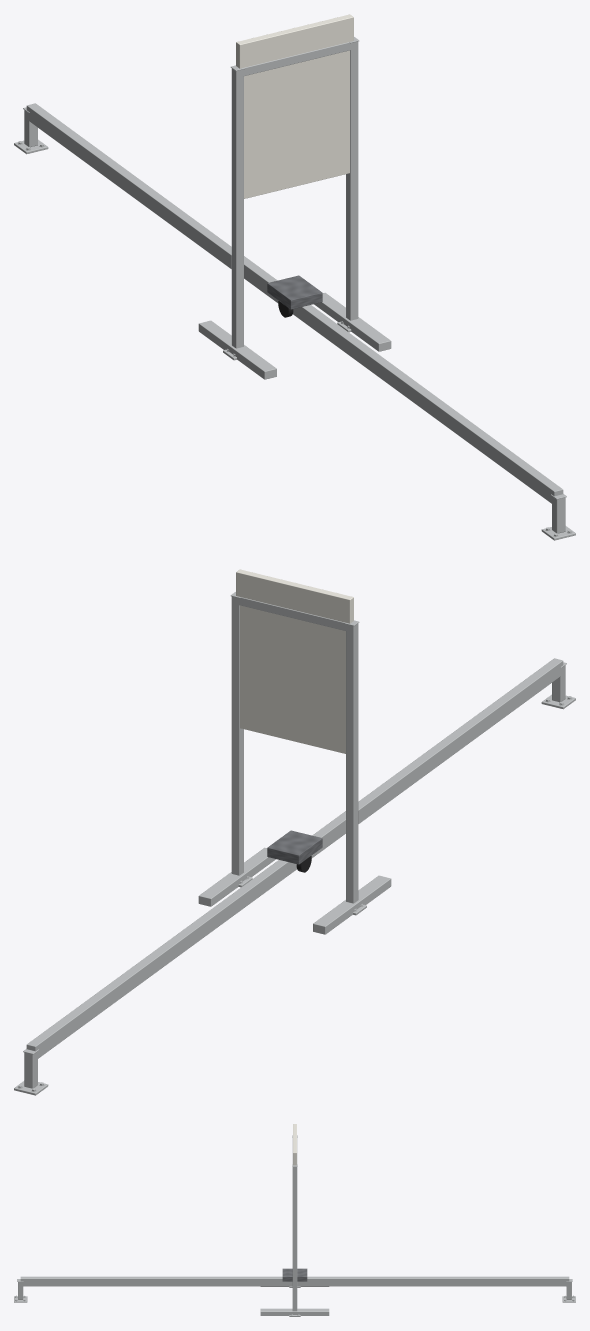
Rendered from fps-weapon-set-and-firing-range-moving-target-track-6b1982a4__19501.glb.
3 renders of one model, top to bottom at view 1: azimuth 30°, elevation 25°; view 2: azimuth 150°, elevation 25°; view 3: azimuth 270°, elevation 25°, orthographic. The views are drawn at different scales.
Parts seen in each view (by area): view 1: moving-target-track; view 2: moving-target-track; view 3: moving-target-track.
Part boxes in pixels (bbox=[...]): moving-target-track: bbox=[14, 14, 575, 540]; moving-target-track: bbox=[14, 569, 575, 1095]; moving-target-track: bbox=[14, 1124, 575, 1316].
Size of the model in its own units: 0.584 by 1.3 by 4.1.
4 materials, 1 textured.
